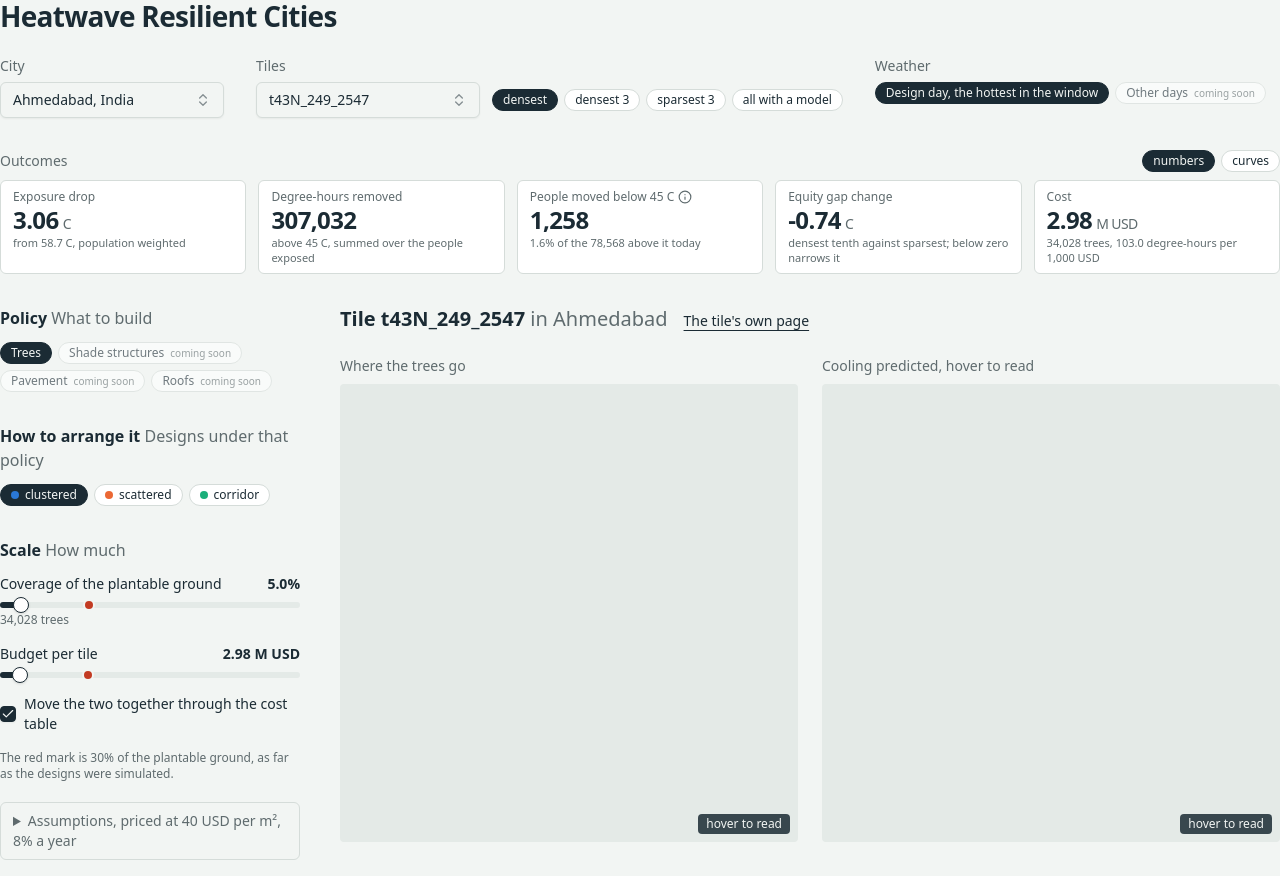
Test: lets a person pick a design and another city from the dropdown
This screenshot has width=1280, height=876.
Expected: the element named "Outcomes" is shown, [0,180,1279,274]
Click the button "corridor".
click(229, 495)  # box [188,484,270,506]
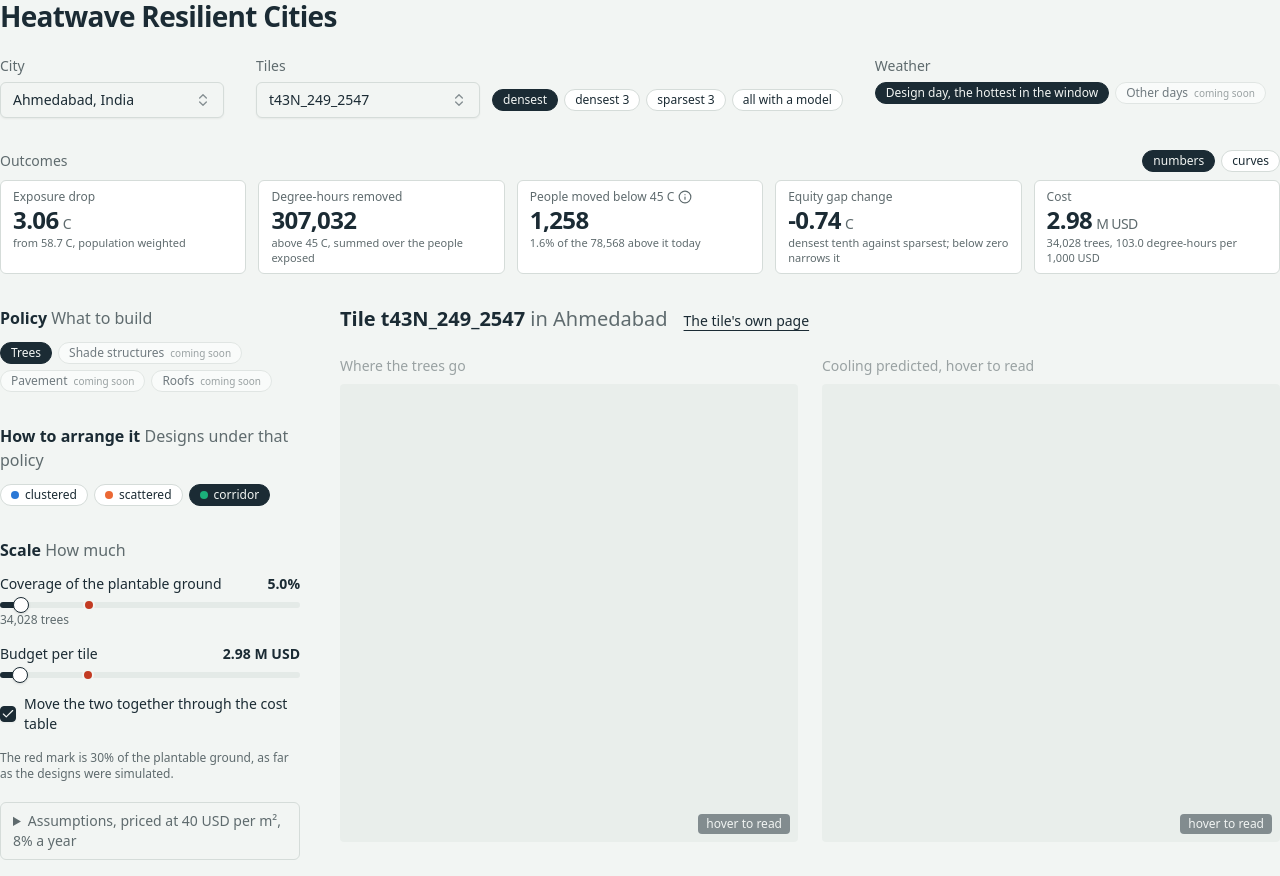
Click the dropdown named "City".
click(112, 100)  # box [0,82,224,118]
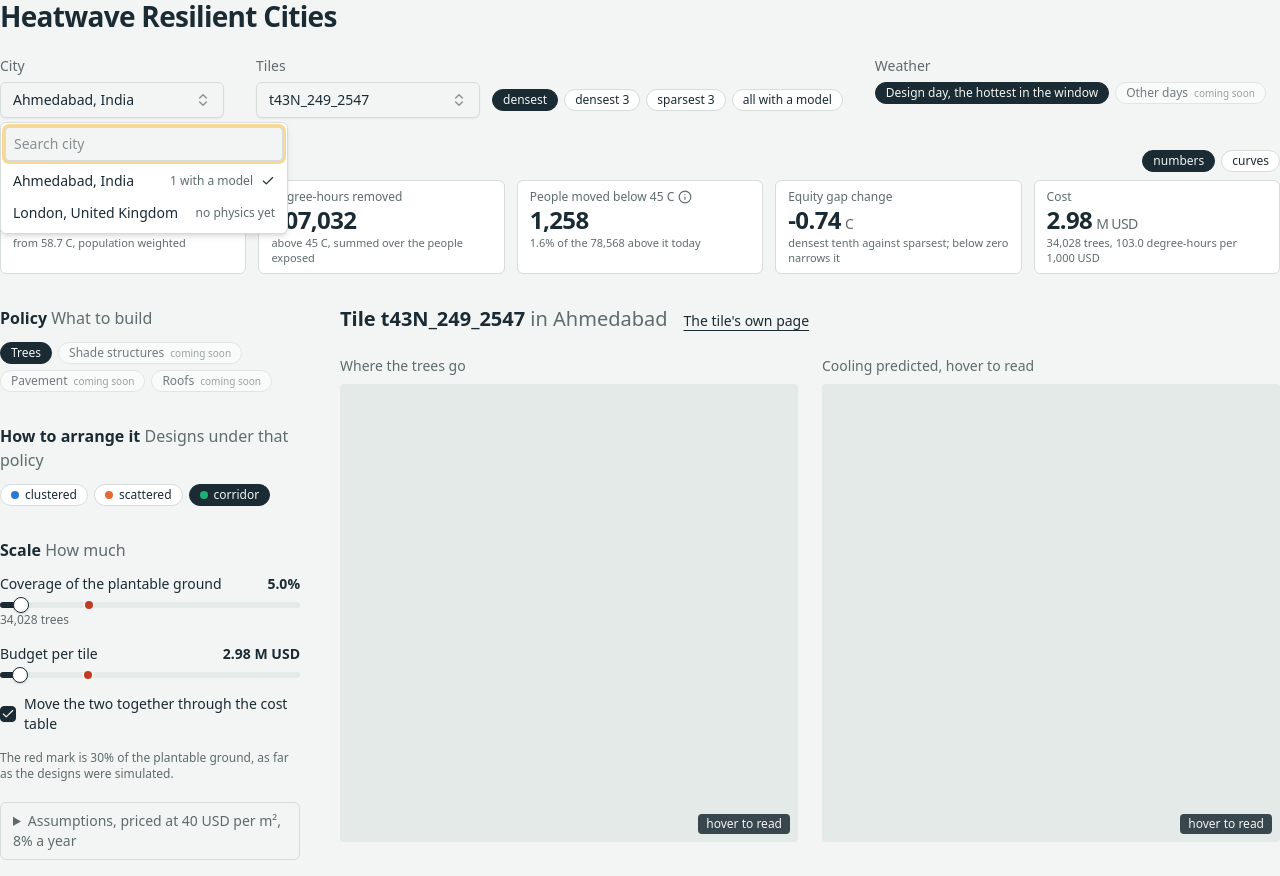
Result: the option "Ahmedabad, India 1 with a model" is shown at [5,165,283,197]
Type "lon" into the search field labelled "Search city".
click(144, 144); type("lon")  # box [5,127,283,161]
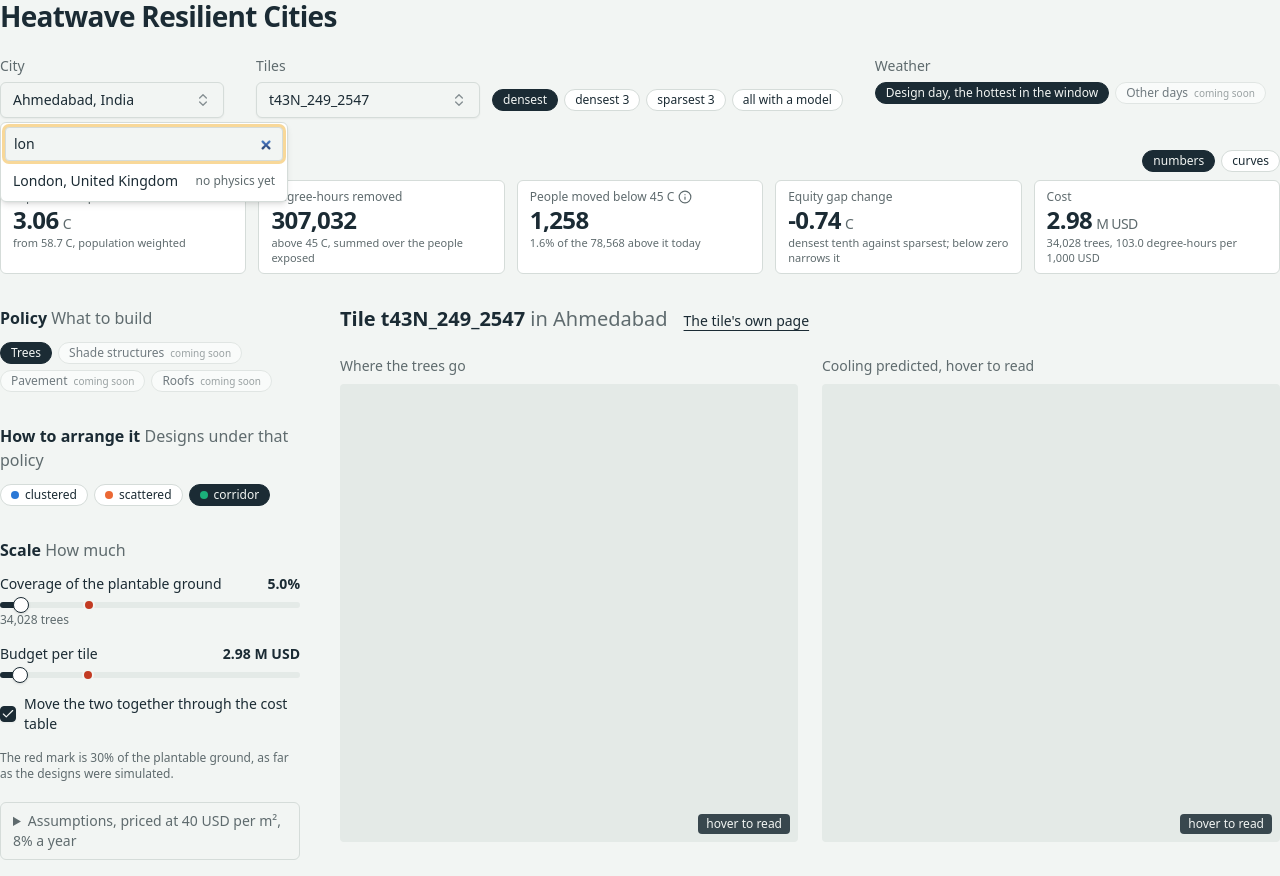
Click the button "London, United Kingdom no physics yet".
click(144, 181)  # box [5,165,283,197]
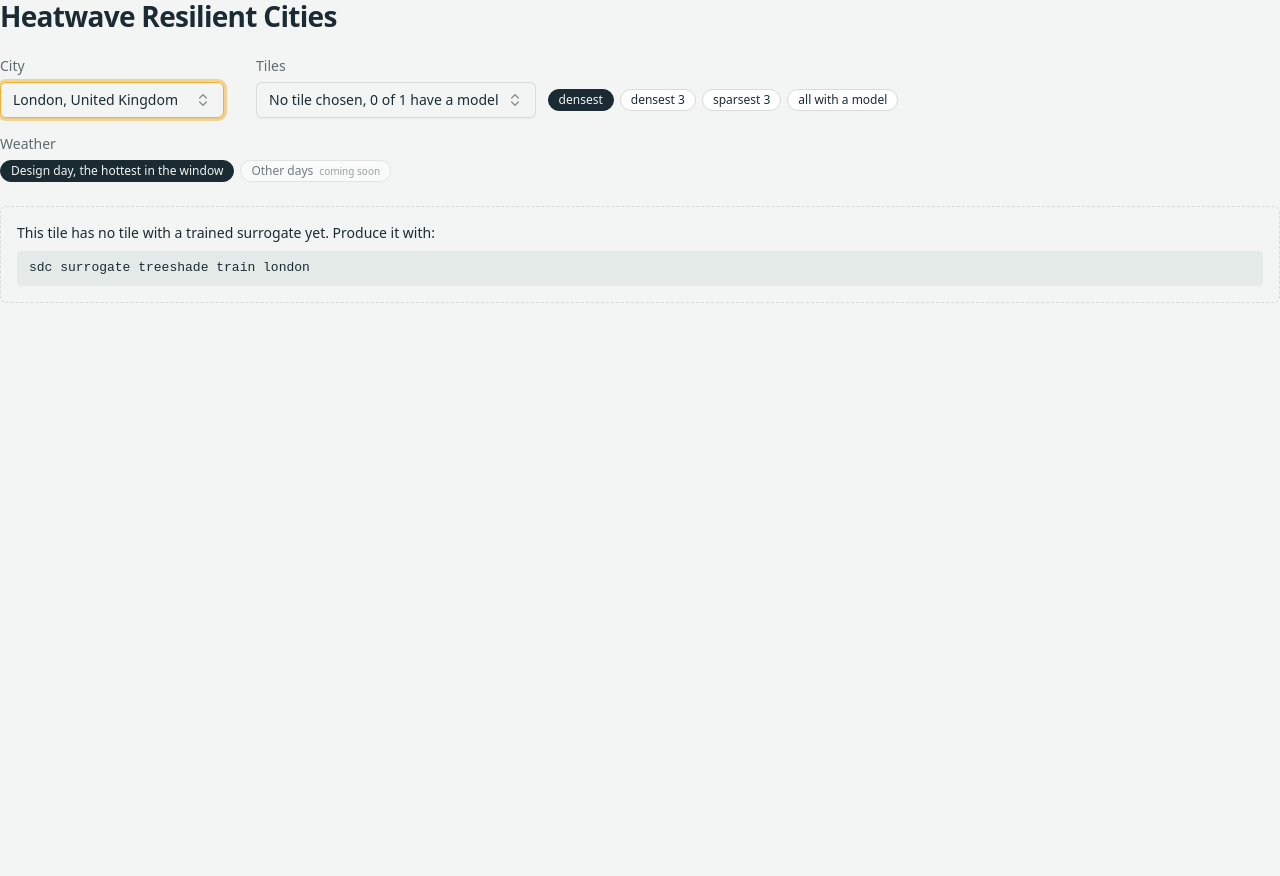
Result: the text "sdc surrogate treeshade train london" is shown at [17,251,1263,286]
